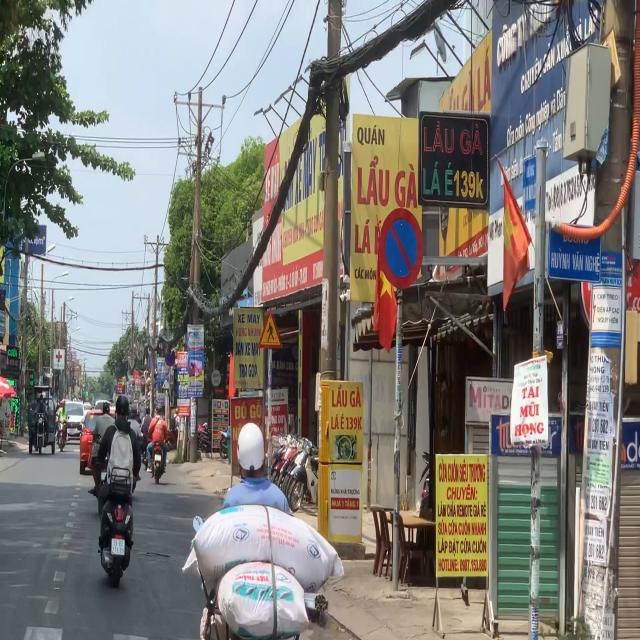Cam do: (378, 208, 424, 289)
Nguoi di bo cat ngang: (257, 310, 283, 348)
